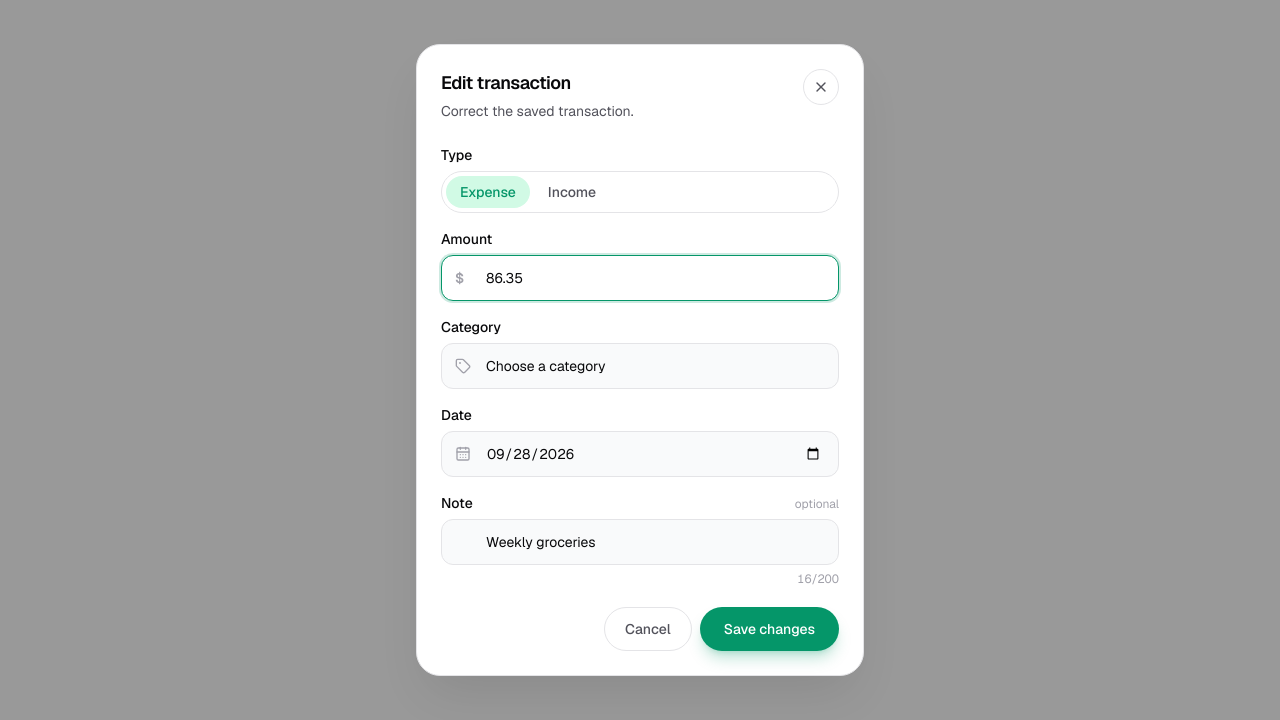
TransactionFormModal › editing a transaction › asks for a category when the saved one is no longer on offer
expect the dropdown labelled "Category" shows "Choose a category": met, box [441, 343, 839, 389]
What coordinates should you click on to do the following:
click the button "Save changes"
I would click on:
 (769, 629)
Its box is [700, 607, 839, 651].
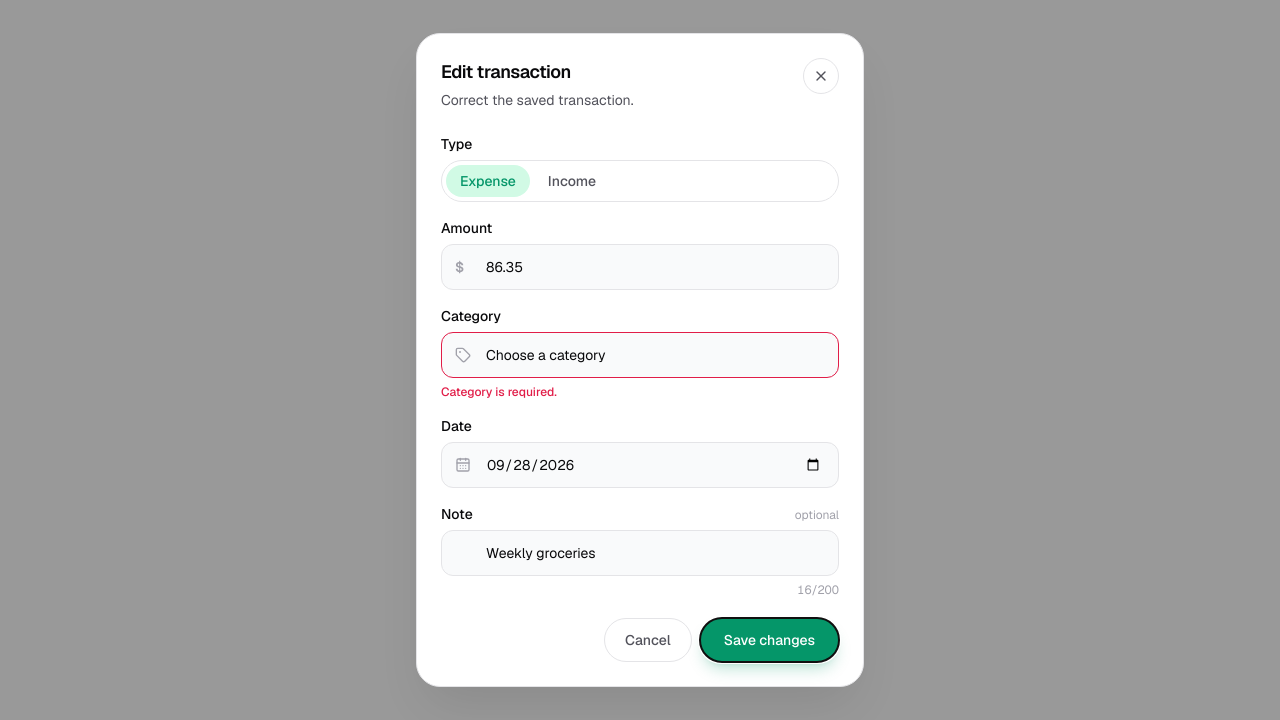
expect the text "Category is required." is shown: met, box [441, 384, 557, 400]
